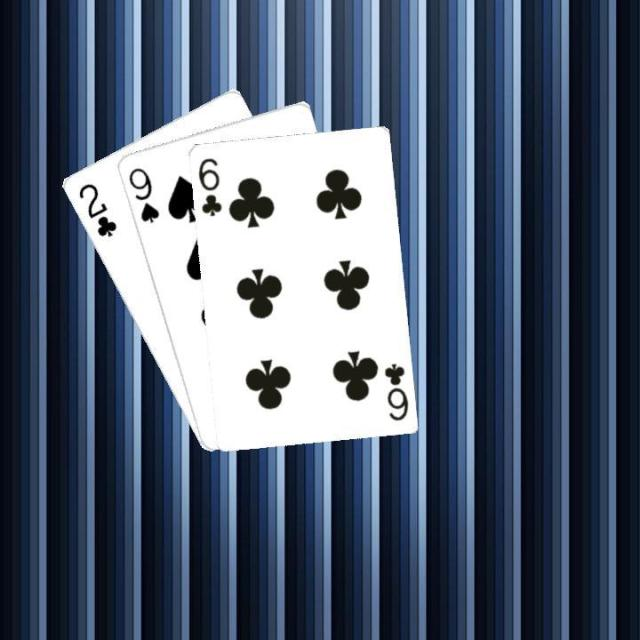2C: (74, 179, 118, 239)
6C: (380, 358, 410, 422), (194, 153, 223, 218)
9S: (124, 163, 161, 225)
